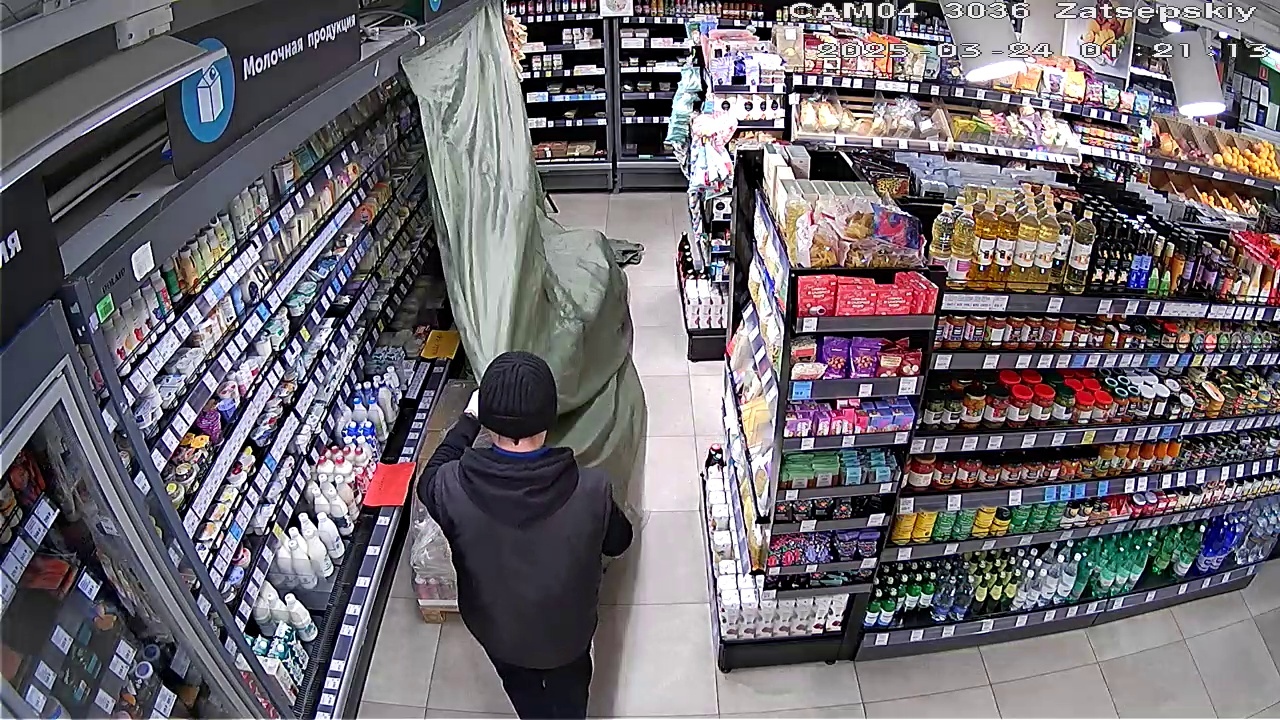Human: (415, 351, 600, 685)
dome: (422, 21, 631, 347)
